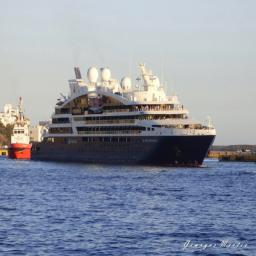cruises: (30, 67, 218, 172)
